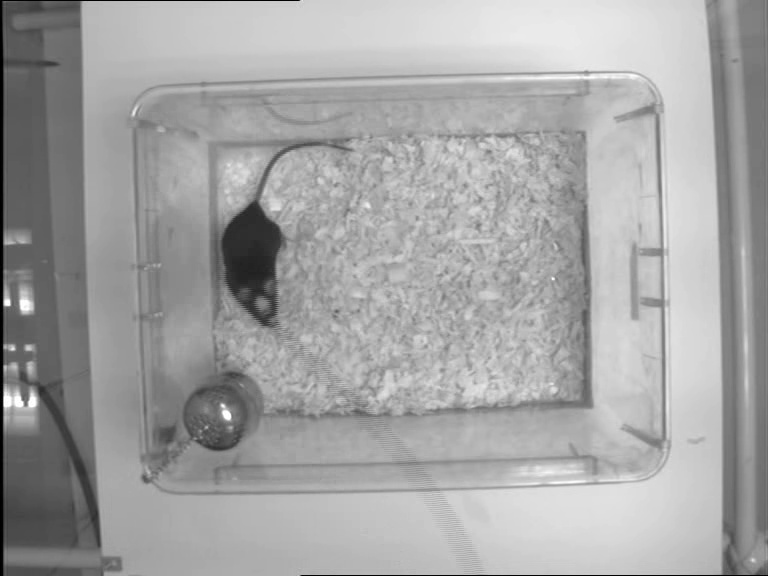mice: (218, 139, 355, 331)
